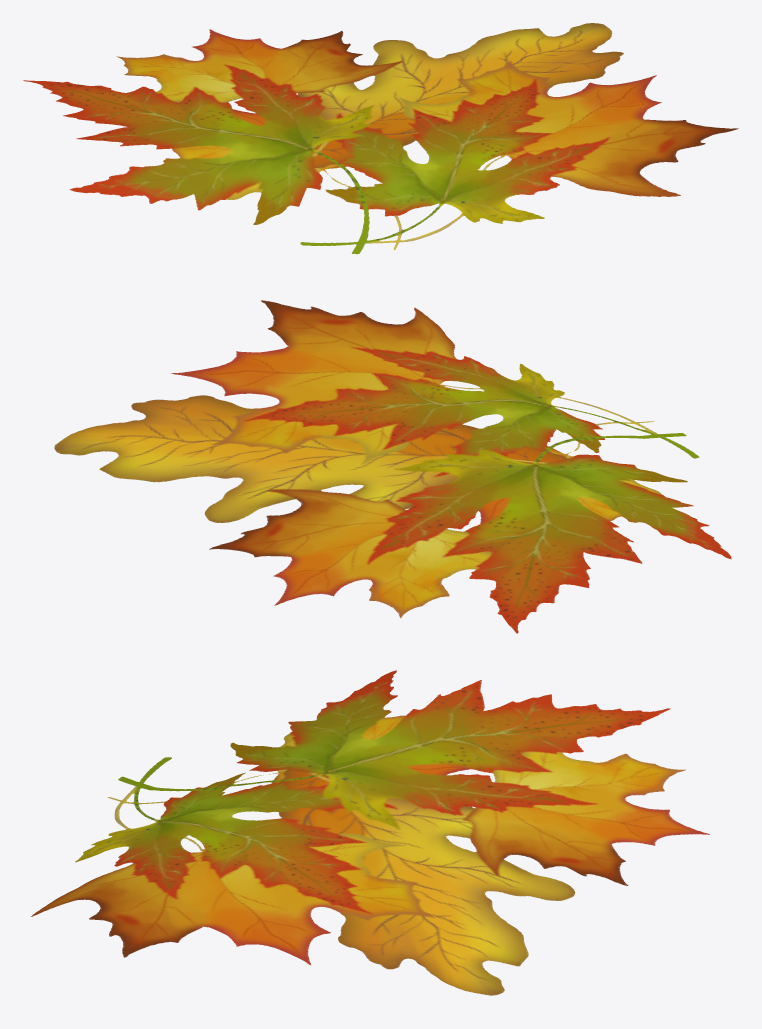
The model's file is dead_leaf_group_1.fbx.
The picture shows the model from 3 angles, top to bottom: view 1: azimuth 30°, elevation 25°; view 2: azimuth 150°, elevation 25°; view 3: azimuth 270°, elevation 25°; orthographic projection. The views are drawn at different scales.
Parts seen in each view (by area): view 1: dead_leaf_group_1; view 2: dead_leaf_group_1; view 3: dead_leaf_group_1.
Part boxes in pixels (x1,y1,x2,y2): dead_leaf_group_1: (23,23,738,254); dead_leaf_group_1: (54,300,731,633); dead_leaf_group_1: (31,670,709,995).
Size of the model in its own units: 47.88 by 2.36 by 43.35.
